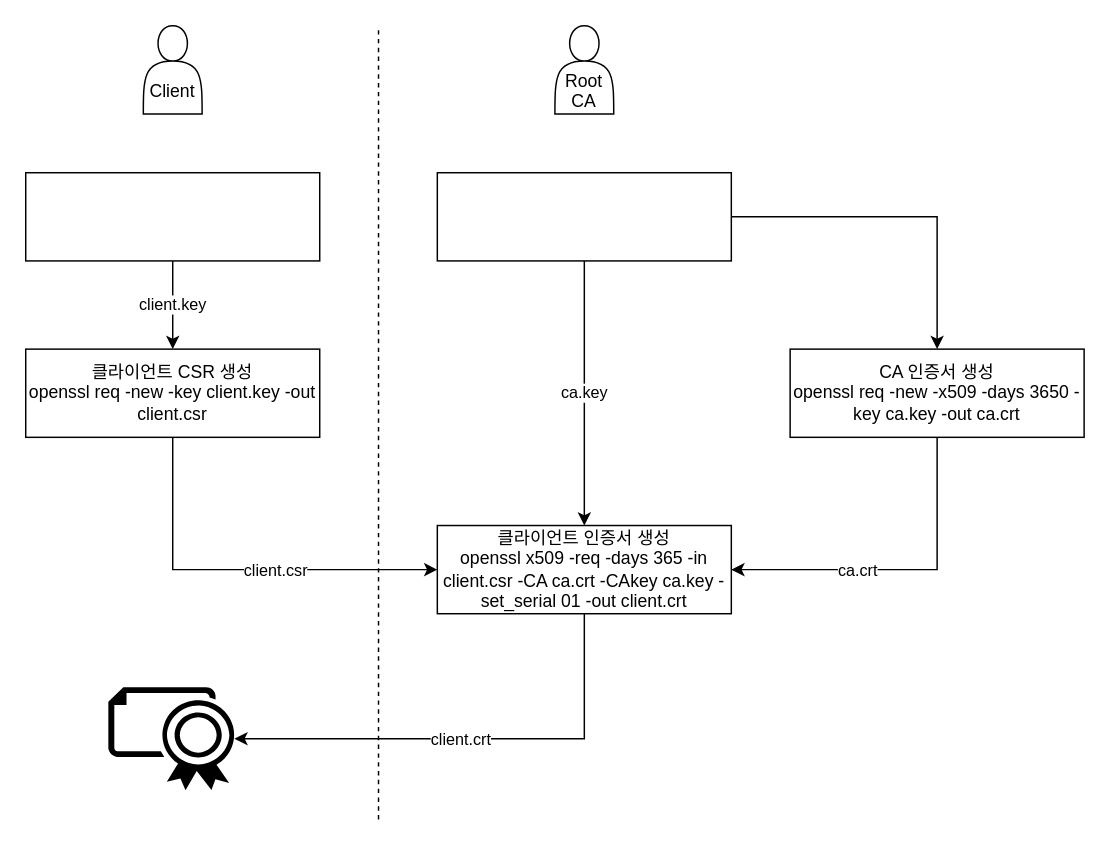
The diagram is 1110 pixels wide and 847 high, and some of its shapes have lost their labels. The box of each missing label's shape, as (x1, y1, x2, y2) in pixels:
CA 서명된 인증서: (108, 686, 236, 789)
CA 키 생성 openssl genrsa -out ca.key 2048: (436, 171, 731, 261)
클라이언트 키 생성 openssl genrsa -out client.key 2048: (24, 171, 320, 261)
